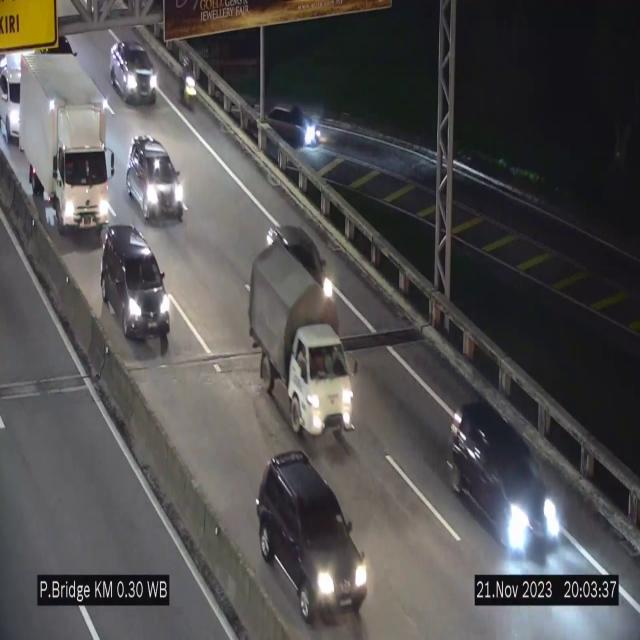Car: (254, 444, 373, 612), (446, 402, 562, 562), (100, 225, 173, 345), (123, 134, 187, 224), (265, 220, 333, 298), (258, 99, 322, 150), (110, 42, 158, 104), (0, 58, 24, 143)
Motorcycle: (179, 54, 197, 112)
Truck: (244, 236, 361, 440), (18, 52, 114, 238)
